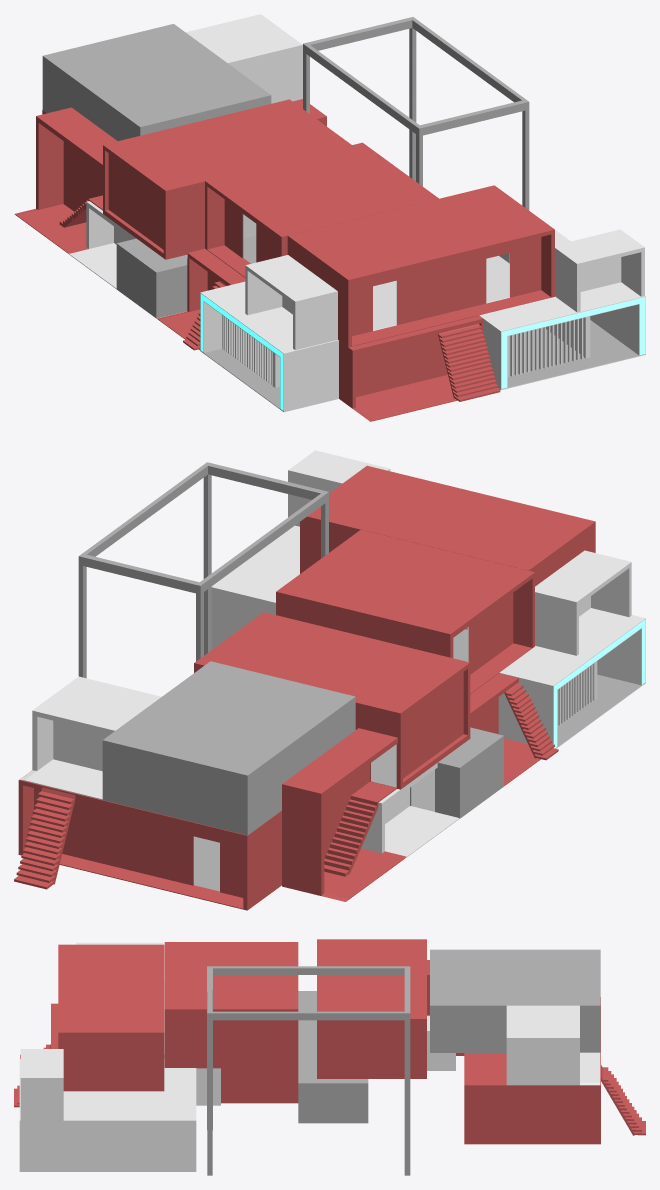
The model's file is Structure.fbx.
3 views of the same model, one above another, from view 1: azimuth 30°, elevation 25°; view 2: azimuth 150°, elevation 25°; view 3: azimuth 270°, elevation 25° (orthographic). The views are drawn at different scales.
Parts seen in each view (by area): view 1: Structure; view 2: Structure; view 3: Structure.
Boxes of the visible parts, <box> form: Structure: <box>14,14,645,421</box>; Structure: <box>14,450,645,910</box>; Structure: <box>14,939,645,1175</box>.
Size of the model in its own units: 18.65 by 9.86 by 34.78.
